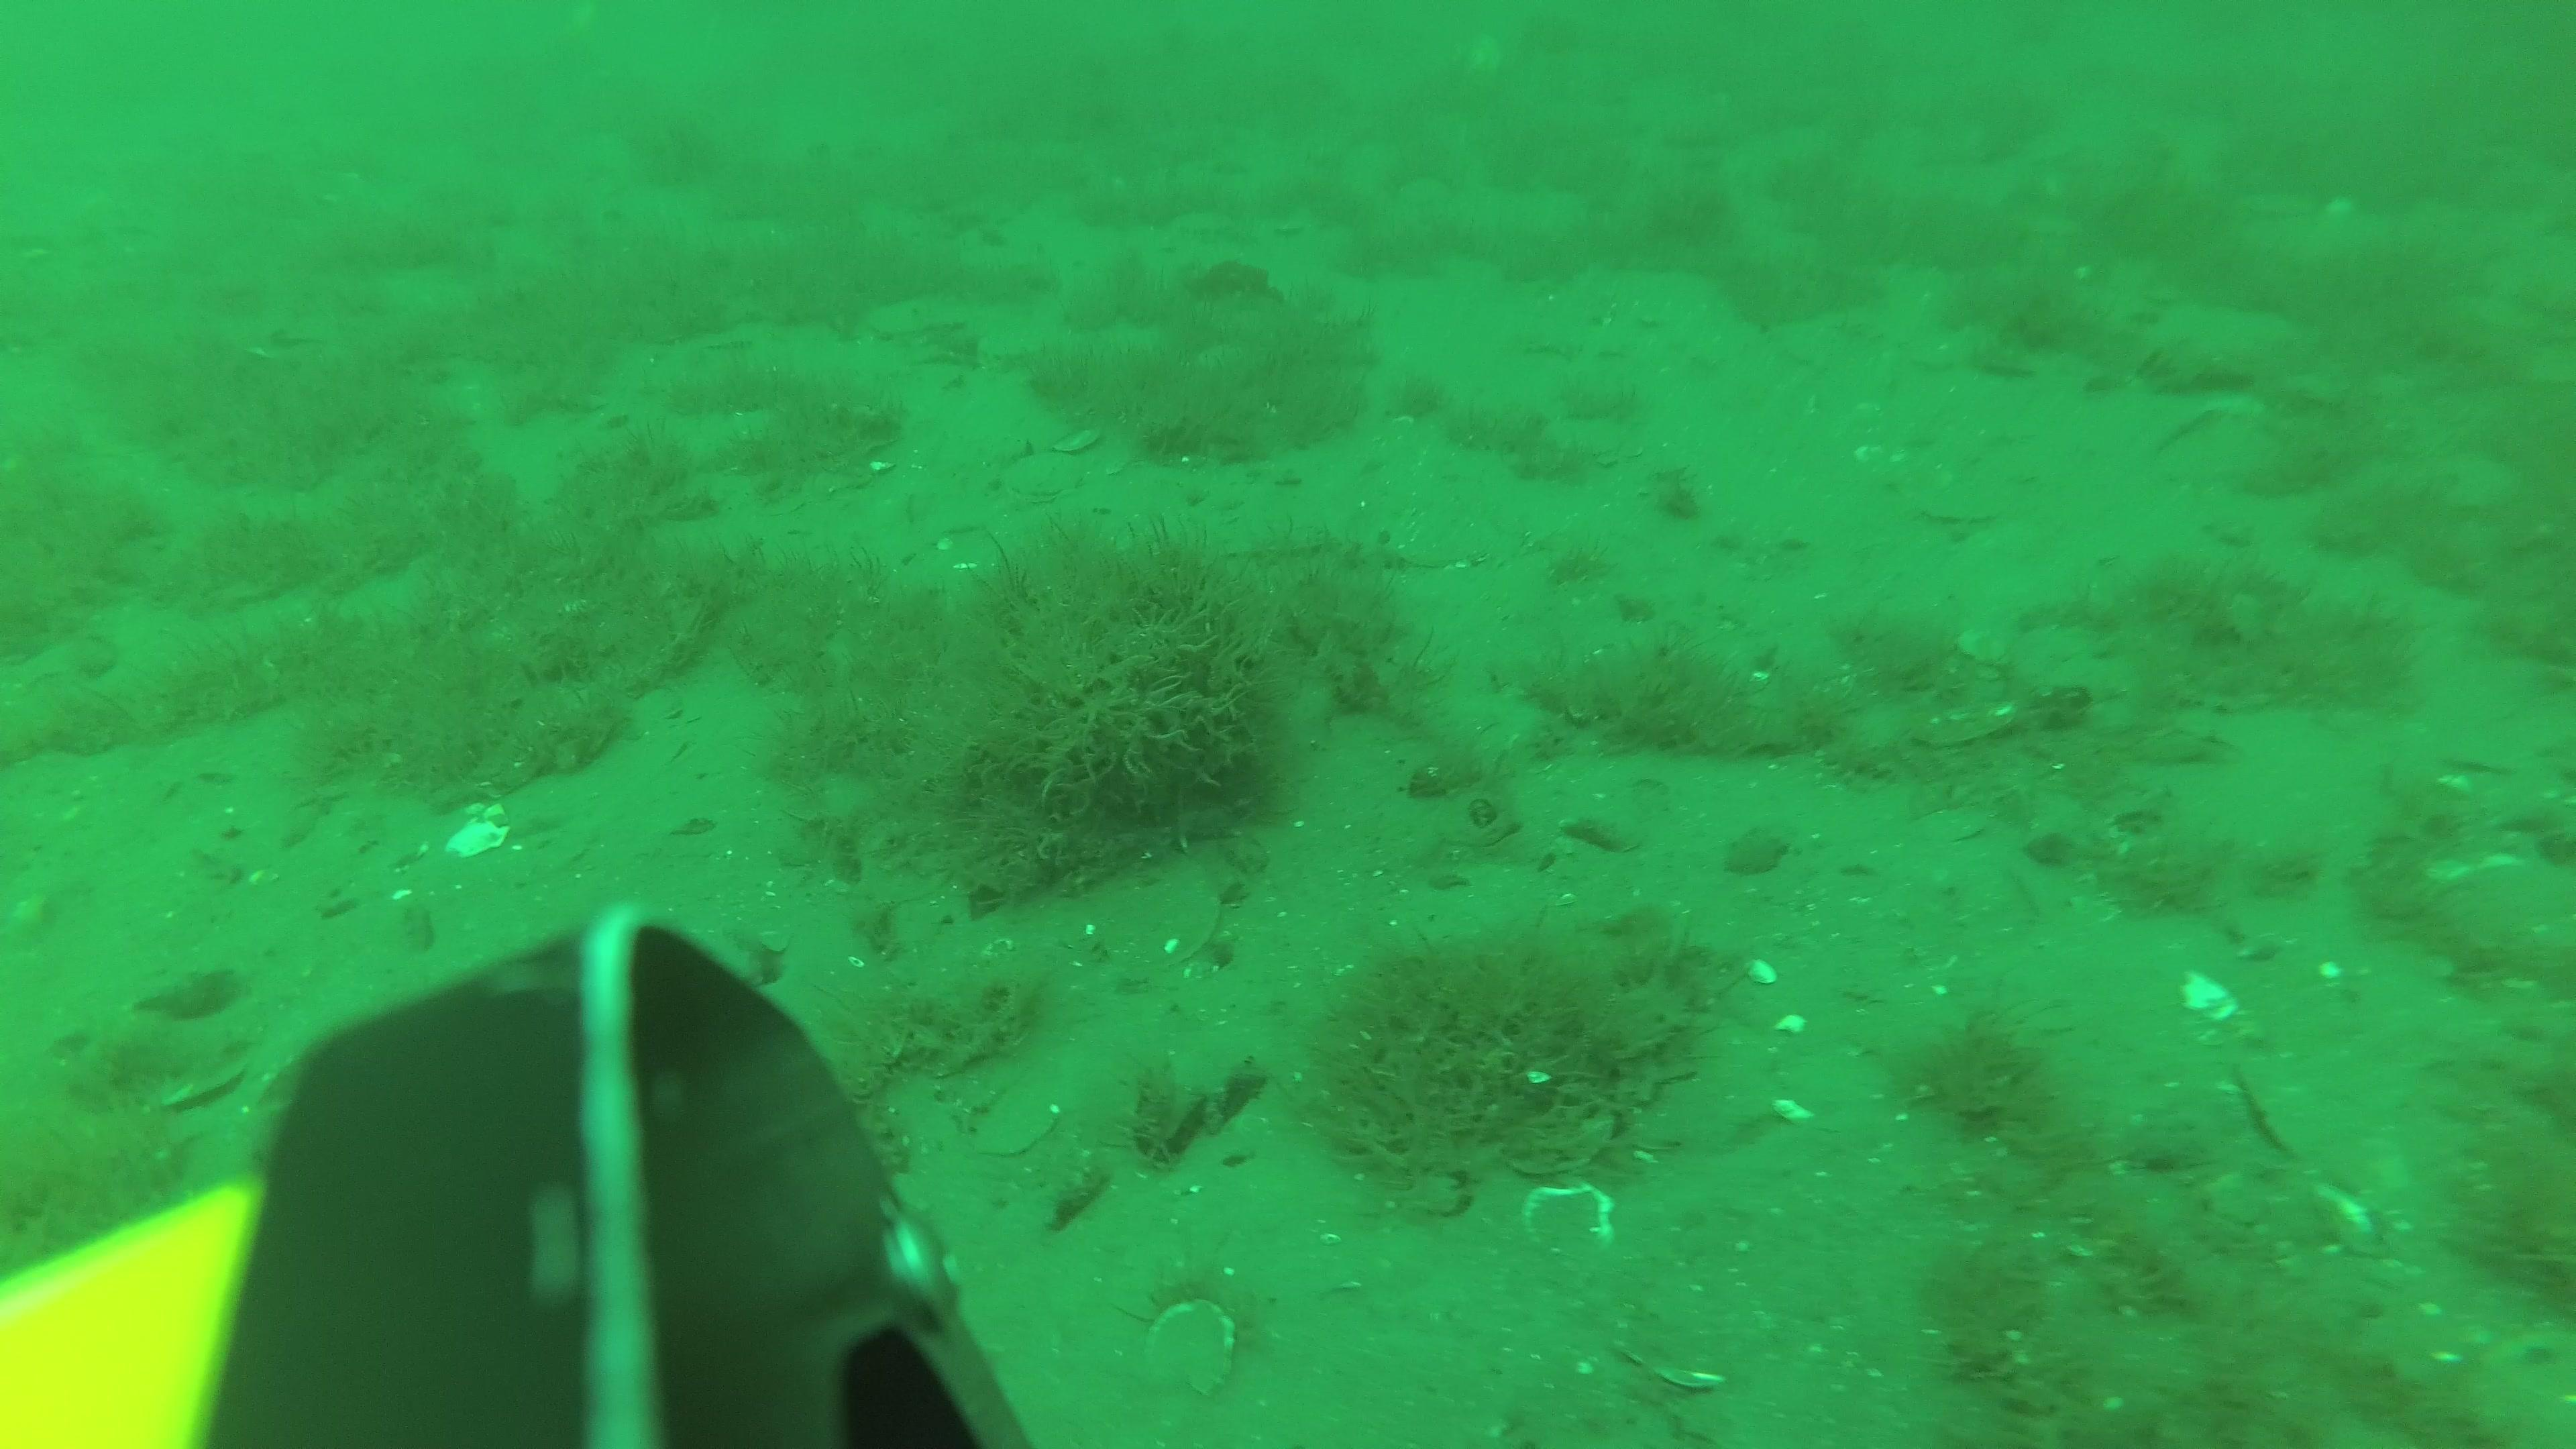scallop: (1104, 863, 1215, 980), (1139, 1293, 1238, 1401), (1522, 1182, 1617, 1258), (975, 1090, 1060, 1161), (1007, 449, 1079, 502), (1921, 483, 2001, 527)
